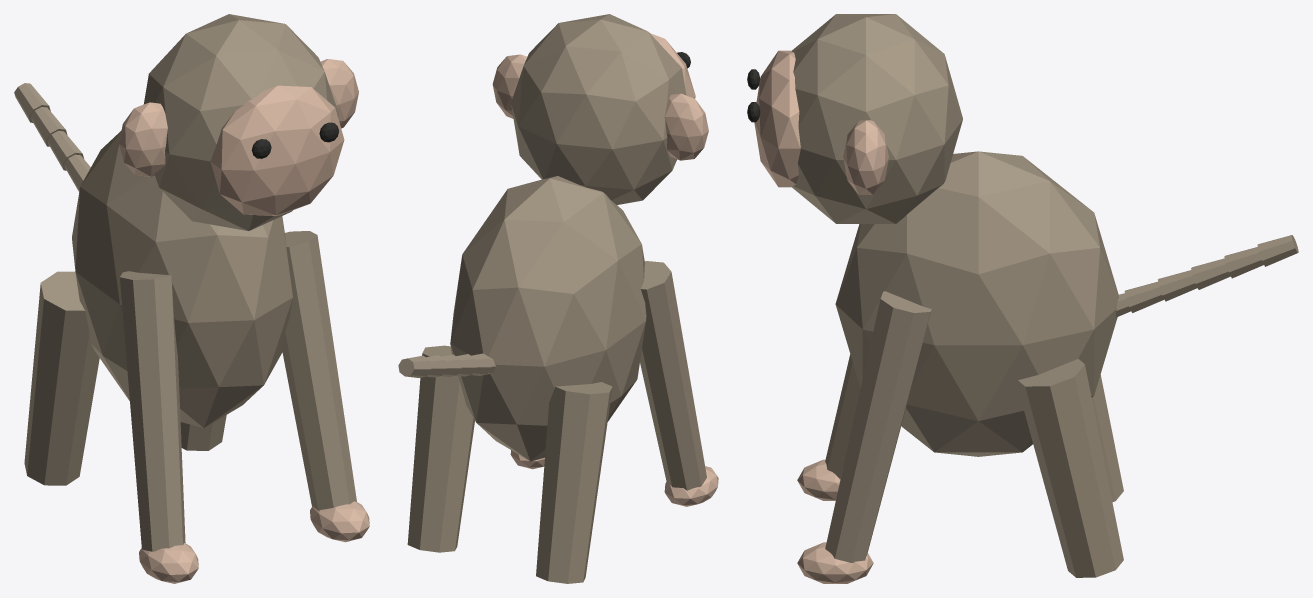
File: zoo-monkey.glb
3 views of the same model, side by side, from view 1: azimuth 30°, elevation 25°; view 2: azimuth 150°, elevation 25°; view 3: azimuth 270°, elevation 25° (orthographic). The views are drawn at different scales.
Visible parts, largest first — view 1: Torso.003, Head.004, Arm, Pink face, Arm.001, Leg.012, Ear.006, Hand, Hand.001, Ear.007, Leg.013, Curved tail.003 (+3 smaller); view 2: Torso.003, Head.004, Leg.012, Leg.013, Arm, Ear.006, Ear.007, Hand, Curved tail.005, Pink face; view 3: Torso.003, Head.004, Leg.013, Arm.001, Pink face, Ear.007, Arm, Hand.001, Leg.012, Hand, Curved tail.005, Curved tail.003 (+3 smaller).
Boxes of the visible parts, x1=… form: Torso.003: x1=72, y1=130, x2=292, y2=427; Head.004: x1=143, y1=14, x2=338, y2=230; Arm: x1=120, y1=271, x2=185, y2=551; Pink face: x1=210, y1=85, x2=344, y2=215; Arm.001: x1=282, y1=231, x2=356, y2=510; Leg.012: x1=24, y1=271, x2=99, y2=485; Ear.006: x1=119, y1=102, x2=167, y2=176; Hand: x1=139, y1=543, x2=198, y2=583; Hand.001: x1=310, y1=501, x2=369, y2=542; Ear.007: x1=320, y1=59, x2=358, y2=128; Leg.013: x1=180, y1=415, x2=226, y2=450; Curved tail.003: x1=47, y1=130, x2=83, y2=170; Torso.003: x1=450, y1=176, x2=646, y2=461; Head.004: x1=511, y1=14, x2=686, y2=204; Leg.012: x1=536, y1=382, x2=612, y2=583; Leg.013: x1=407, y1=345, x2=474, y2=552; Arm: x1=640, y1=261, x2=706, y2=490; Ear.006: x1=664, y1=93, x2=708, y2=160; Ear.007: x1=492, y1=54, x2=527, y2=118; Hand: x1=664, y1=466, x2=718, y2=506; Curved tail.005: x1=398, y1=355, x2=431, y2=377; Pink face: x1=650, y1=33, x2=695, y2=98; Torso.003: x1=835, y1=151, x2=1118, y2=456; Head.004: x1=792, y1=14, x2=962, y2=223; Leg.013: x1=1018, y1=358, x2=1123, y2=577; Arm.001: x1=825, y1=291, x2=931, y2=562; Pink face: x1=754, y1=50, x2=800, y2=187; Ear.007: x1=843, y1=120, x2=888, y2=194; Arm: x1=825, y1=354, x2=860, y2=479; Hand.001: x1=797, y1=542, x2=873, y2=583; Leg.012: x1=1091, y1=375, x2=1123, y2=502; Hand: x1=797, y1=459, x2=840, y2=500; Curved tail.005: x1=1257, y1=235, x2=1298, y2=266; Curved tail.003: x1=1191, y1=258, x2=1230, y2=289.
Bounding box in the file's own units: 0.5236 × 1.13 × 1.08.
